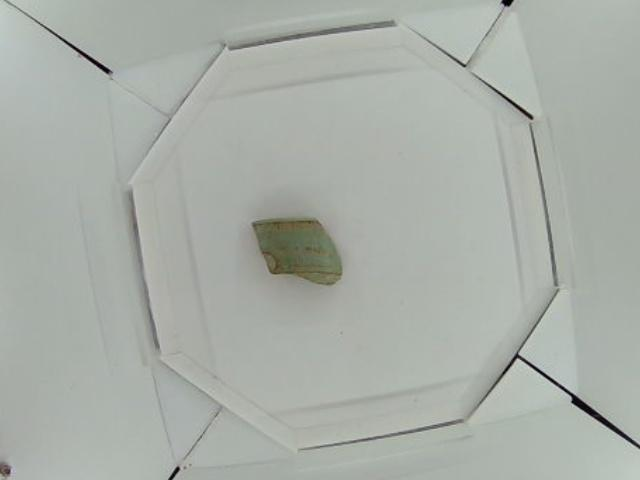China: (251, 210, 342, 291)
